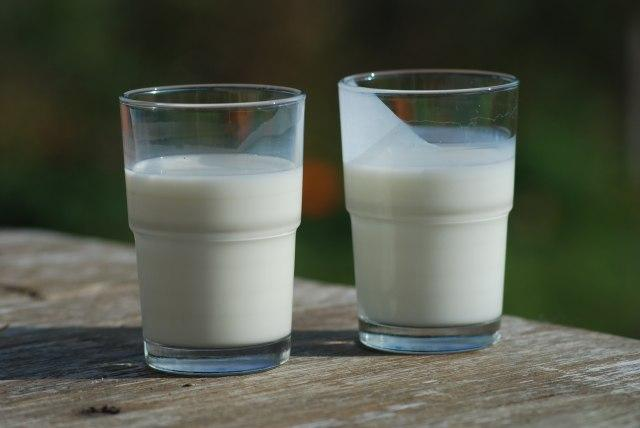produk_susu: (134, 89, 282, 363), (352, 73, 499, 334)
